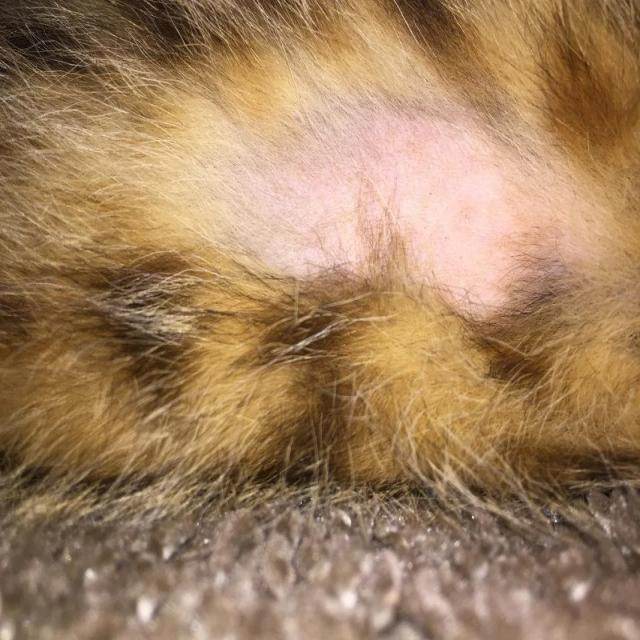cat-hairloss: (225, 96, 539, 288)
